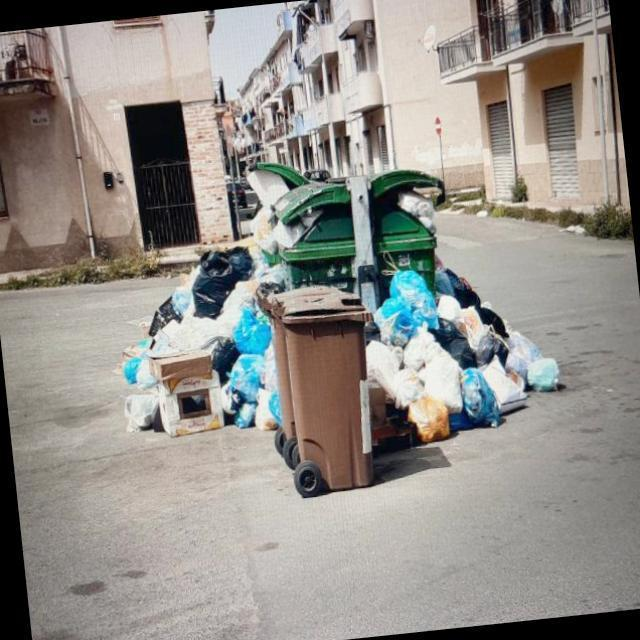garbage: (65, 152, 585, 522)
